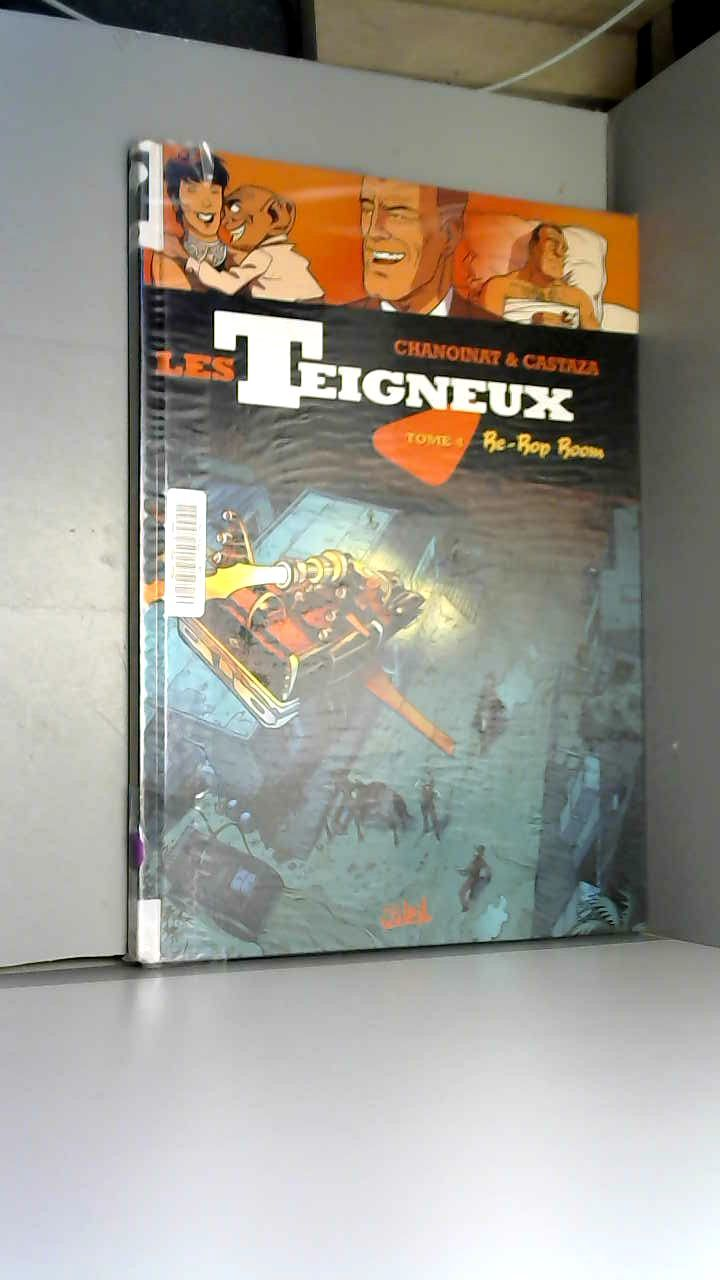book: (88, 110, 678, 998)
